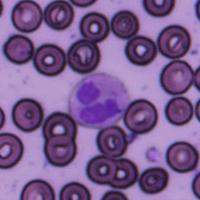N: (68, 72, 130, 128)
